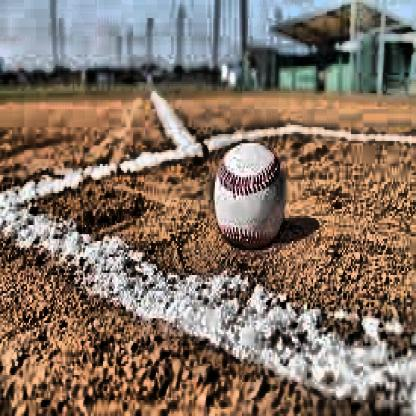baseball: (212, 142, 293, 250)
